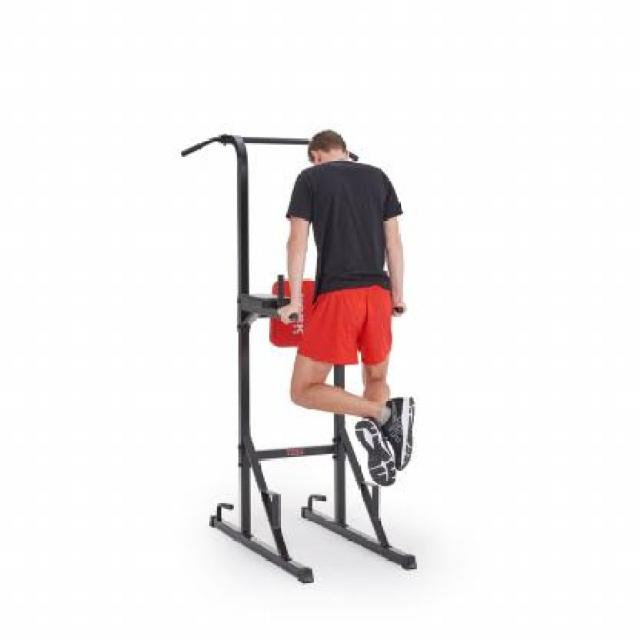chinning dipping: (183, 133, 417, 584)
